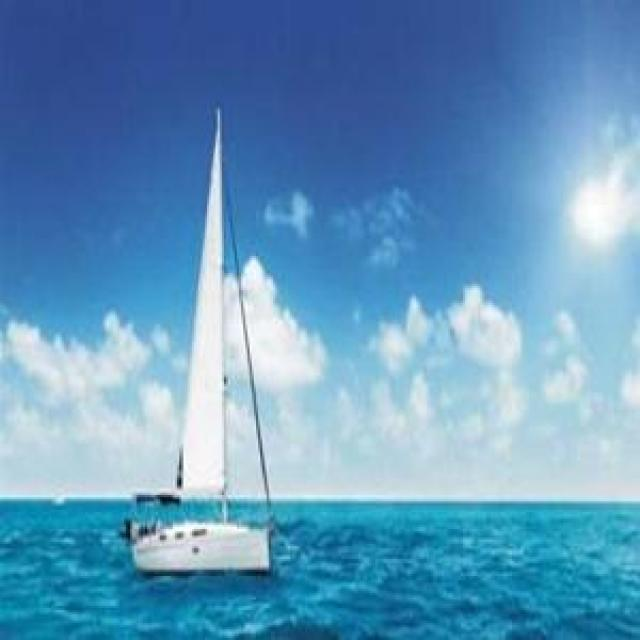sailboat: (120, 92, 293, 588)
